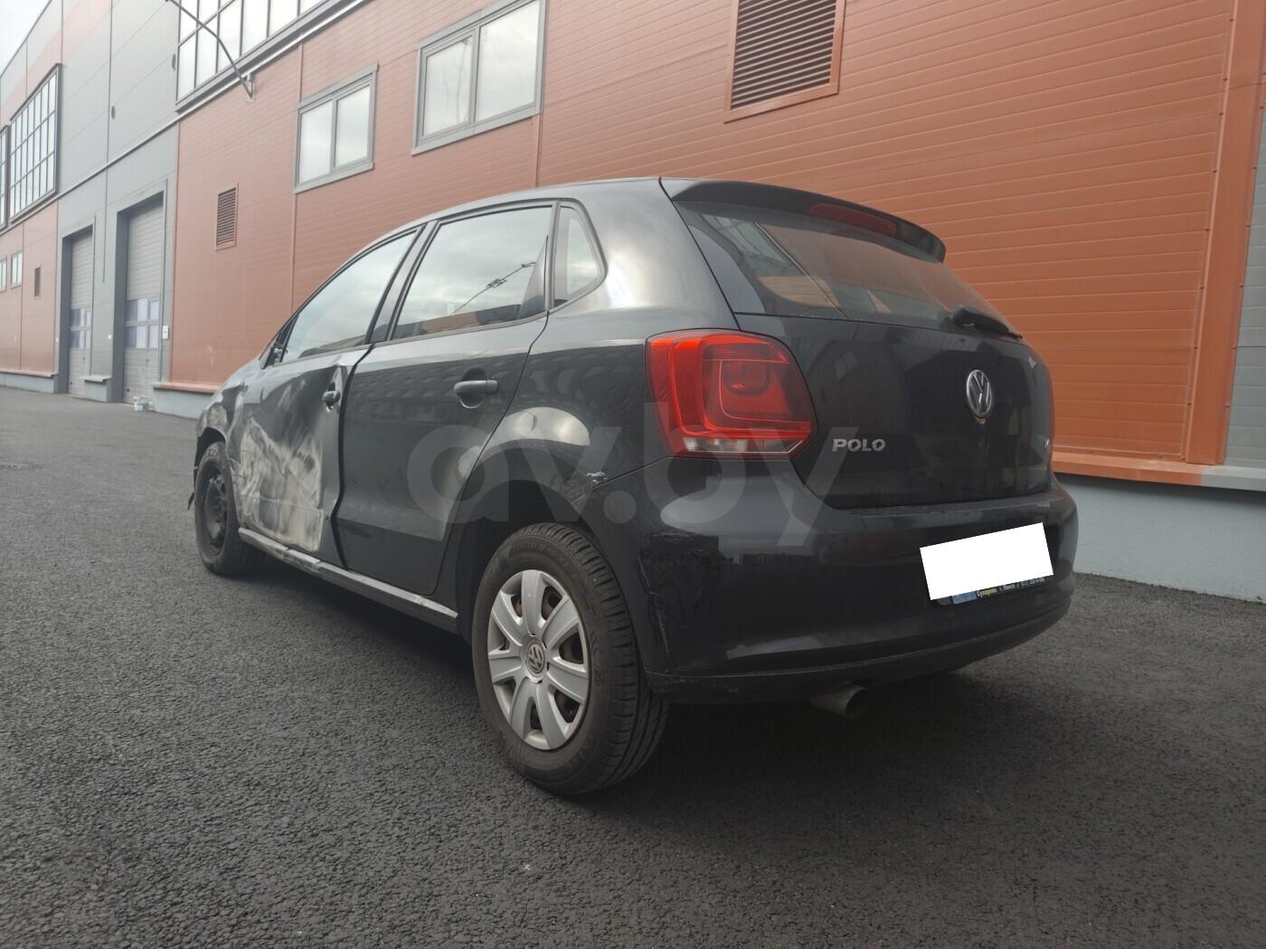Polo_2009-2015: (149, 146, 1112, 804)
